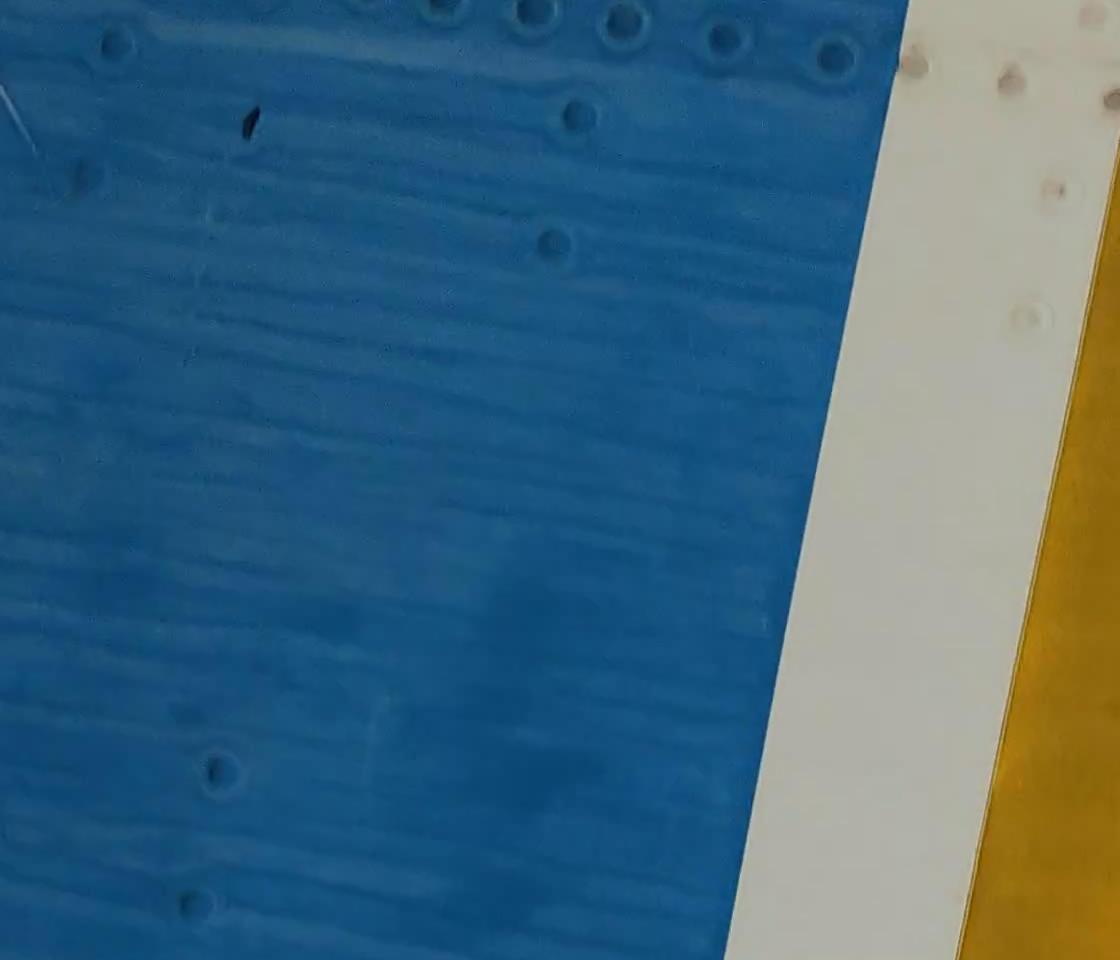scratch: (226, 103, 269, 151)
